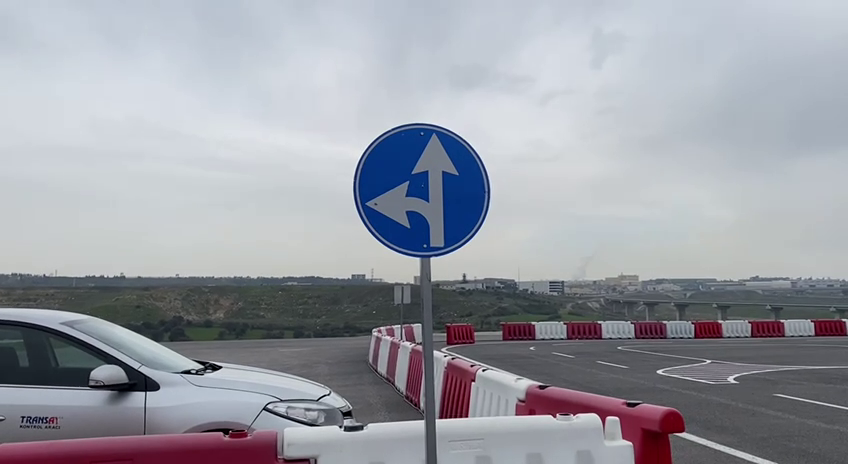forwardAndLeft: (349, 117, 496, 260)
